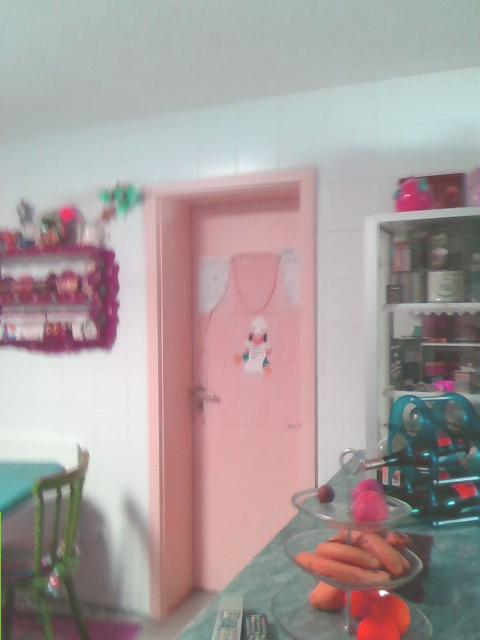closed_door: (149, 167, 318, 615)
